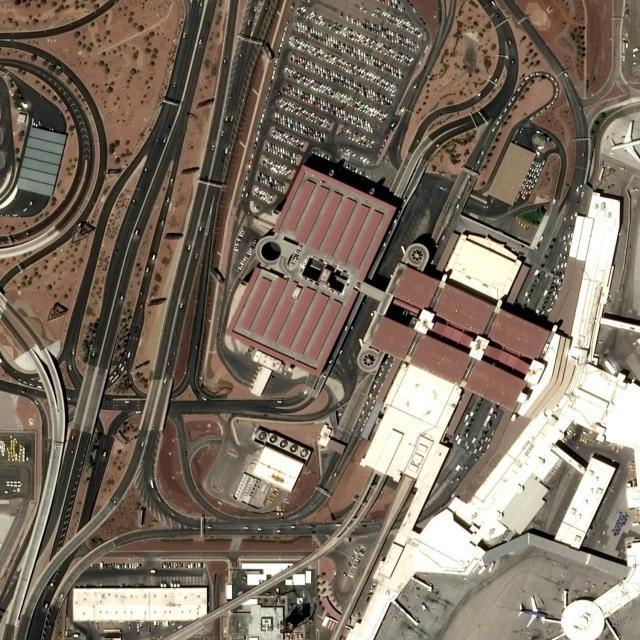Aircraft: (611, 119, 640, 163), (519, 595, 549, 629)
